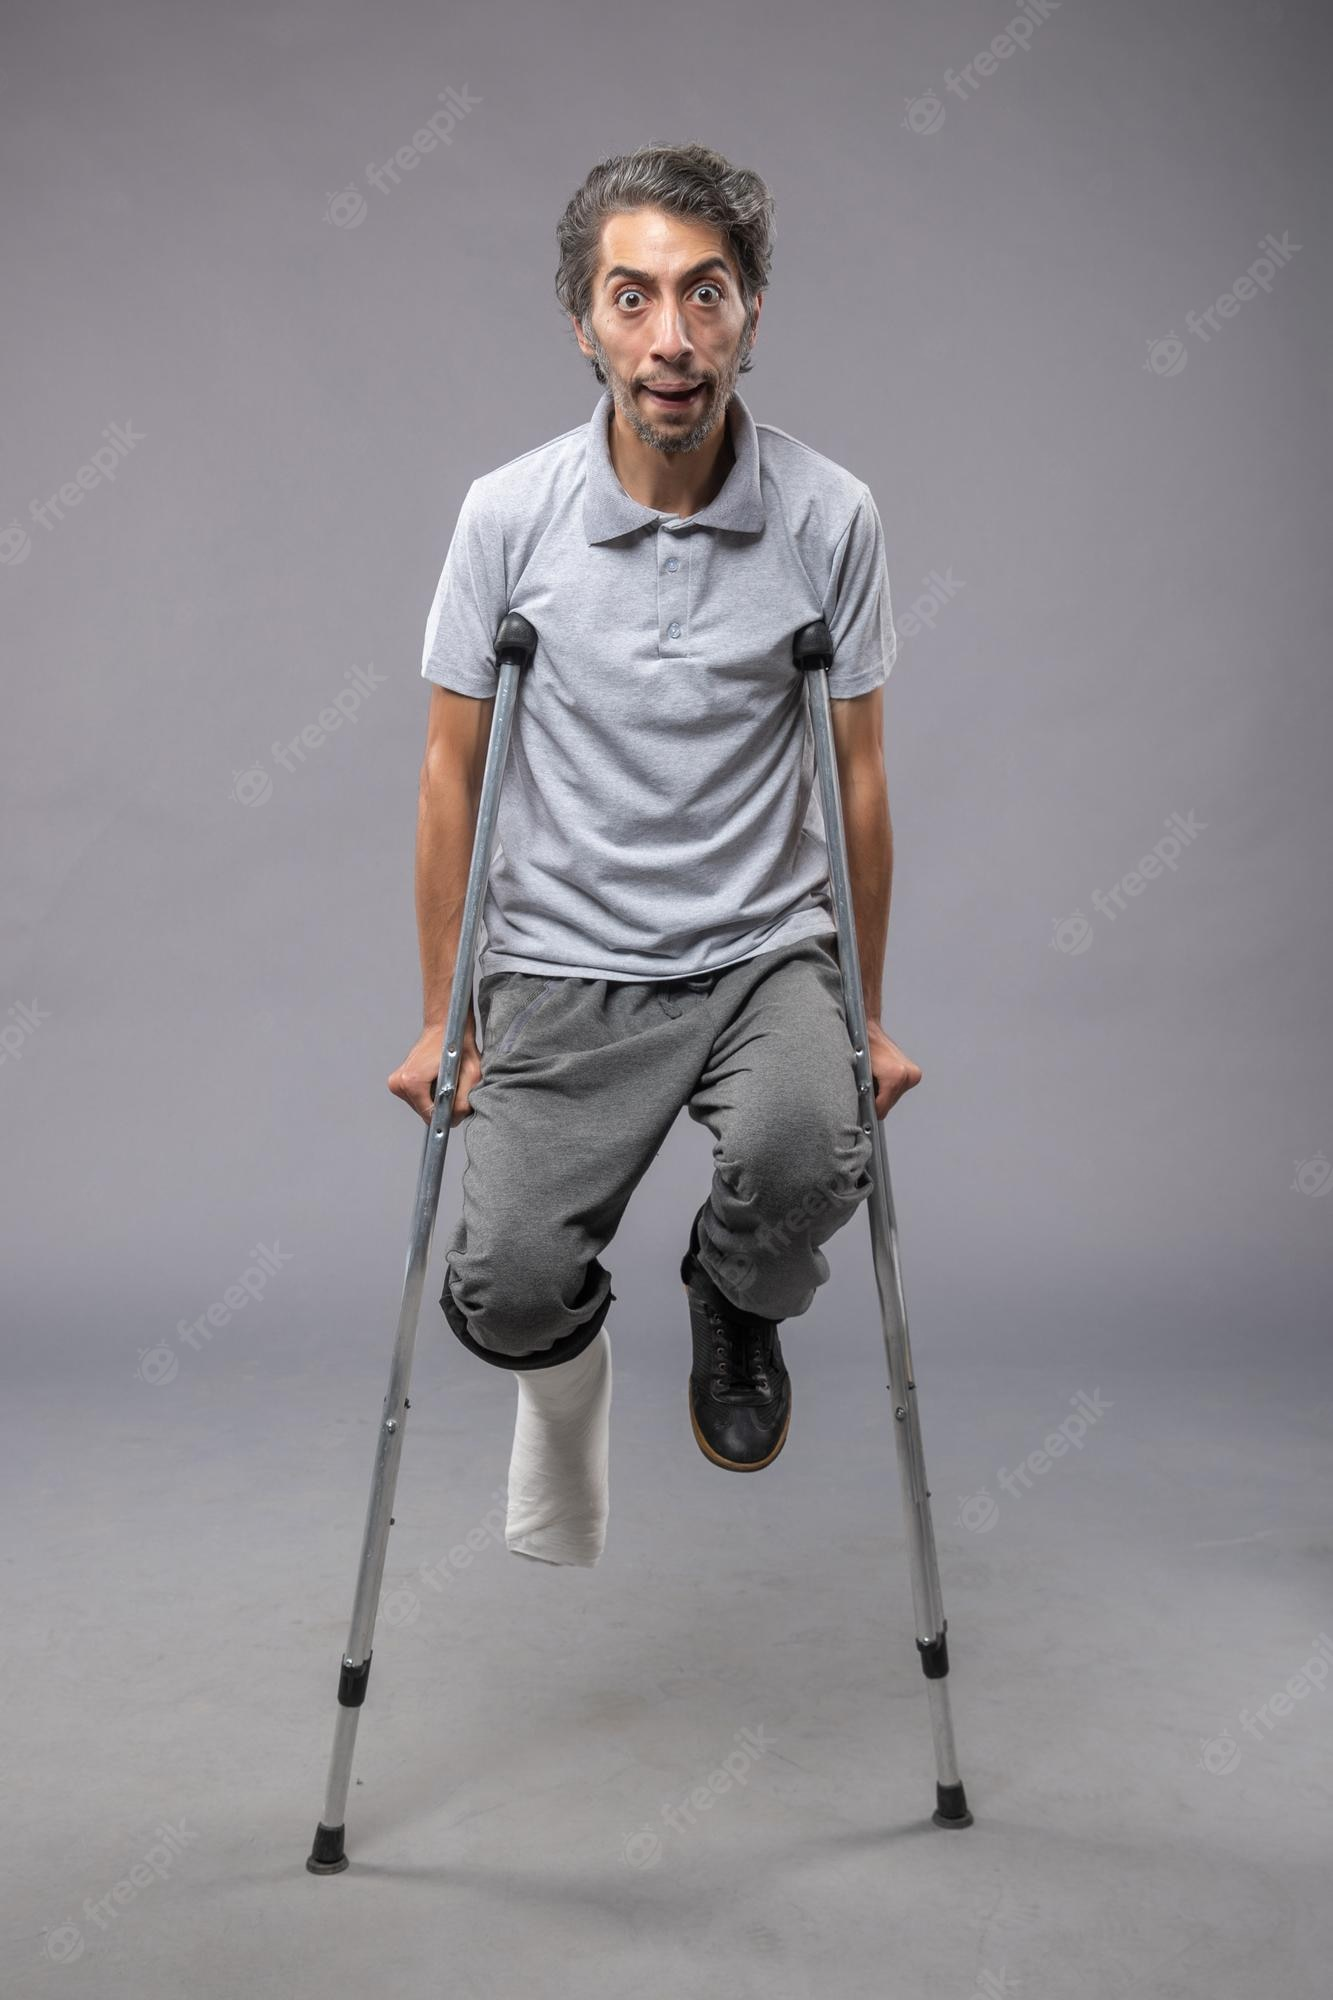crutches: (306, 150, 974, 1880)
